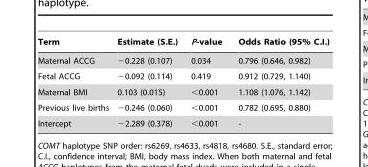table: (37, 37, 329, 127)
table column: (229, 37, 329, 127), (37, 37, 112, 127), (112, 37, 183, 127), (183, 37, 229, 127)
table column header: (37, 37, 329, 50)
table row: (37, 50, 329, 68), (37, 83, 329, 99), (37, 99, 329, 115), (37, 68, 329, 83), (37, 37, 329, 50), (37, 115, 329, 127)
